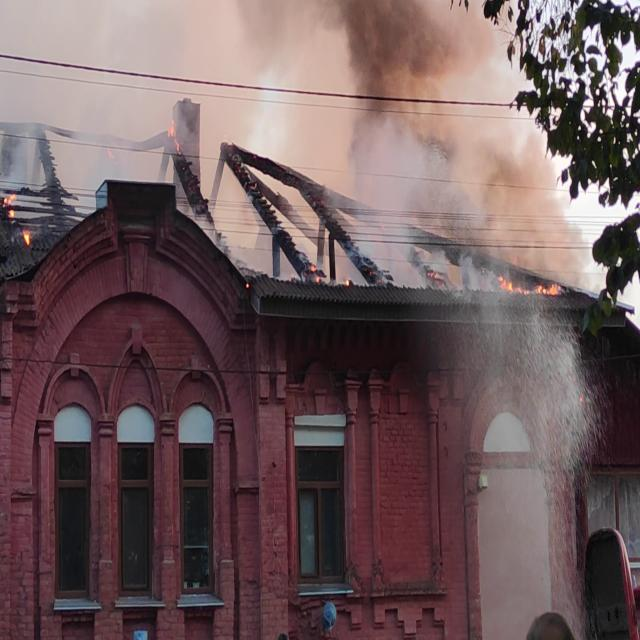fire: (493, 263, 567, 303)
smoke: (362, 0, 473, 290), (61, 23, 147, 155)
